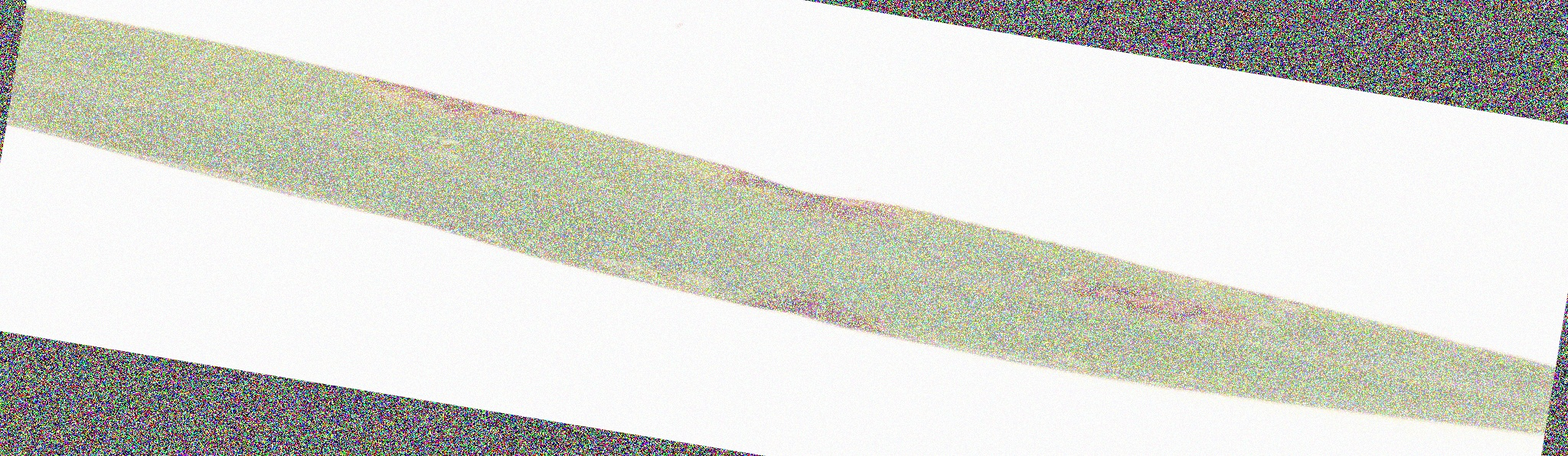Bacterial_Leaf_Blight: (679, 155, 939, 217), (313, 63, 549, 124), (1030, 267, 1265, 325), (730, 274, 878, 334)
